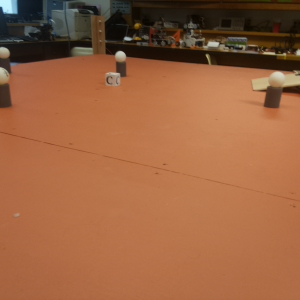obstacle: (264, 71, 284, 110), (1, 66, 9, 105), (114, 52, 125, 78)
slope: (253, 70, 300, 92)
